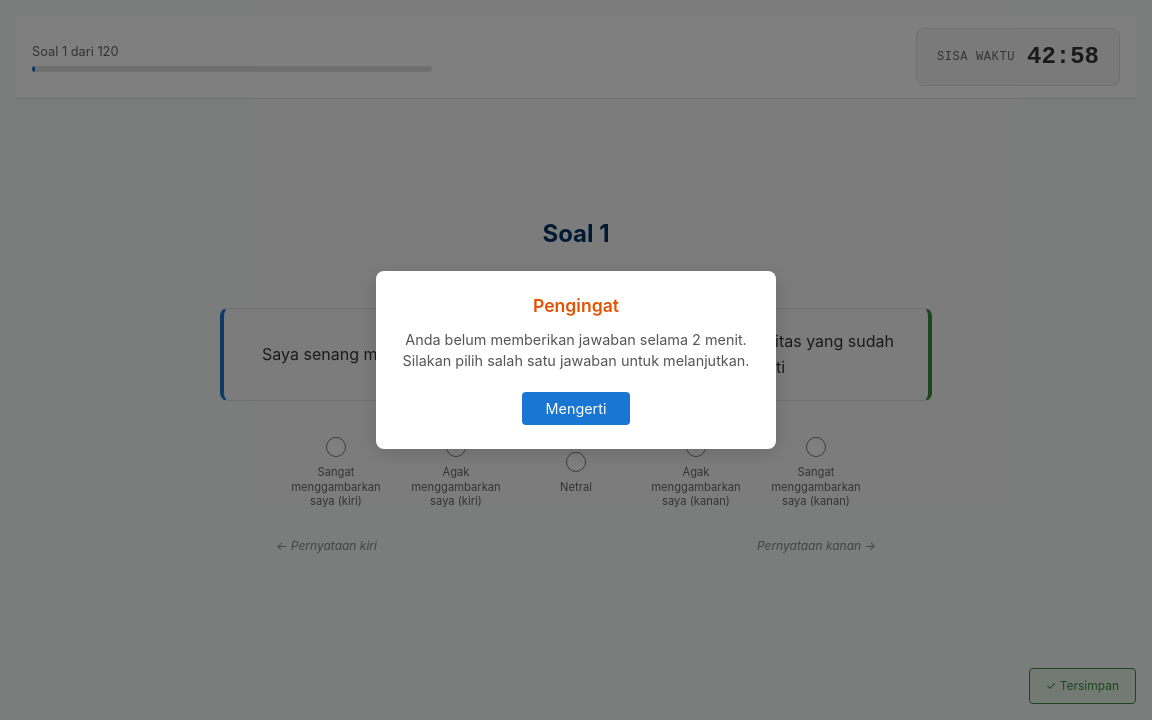
PersonalityTestPage › dismisses inactivity reminder when button is clicked
The image size is (1152, 720).
Click the button "Mengerti".
click(576, 409)  # box 522,392 -> 630,425
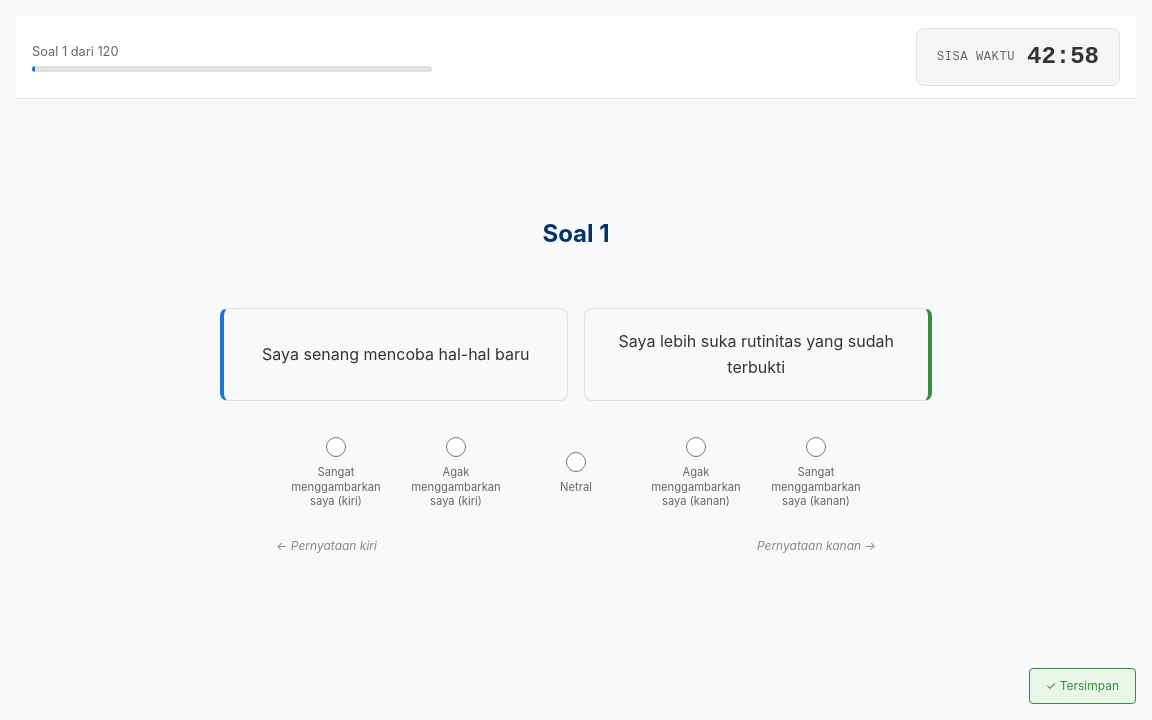
expect the dialog with test id "inactivity-reminder" is gone: met
